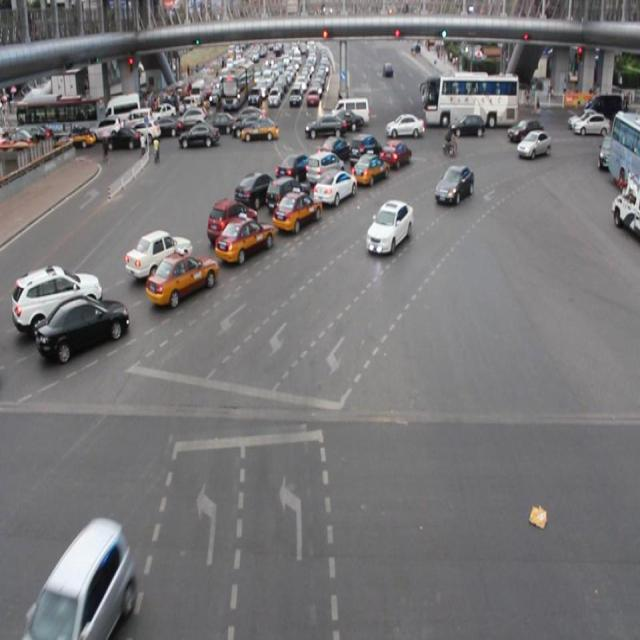car: (33, 293, 134, 361), (9, 263, 104, 331), (144, 250, 220, 309), (122, 228, 193, 279), (214, 215, 277, 264), (364, 198, 414, 257), (204, 193, 259, 244), (269, 186, 323, 236), (264, 171, 312, 213), (433, 162, 476, 208), (309, 168, 358, 207), (232, 170, 276, 210), (304, 146, 346, 187), (350, 150, 391, 190), (273, 150, 314, 188), (345, 130, 384, 168), (376, 134, 413, 173), (514, 130, 552, 165), (317, 134, 354, 166)
truck: (24, 512, 140, 640)
